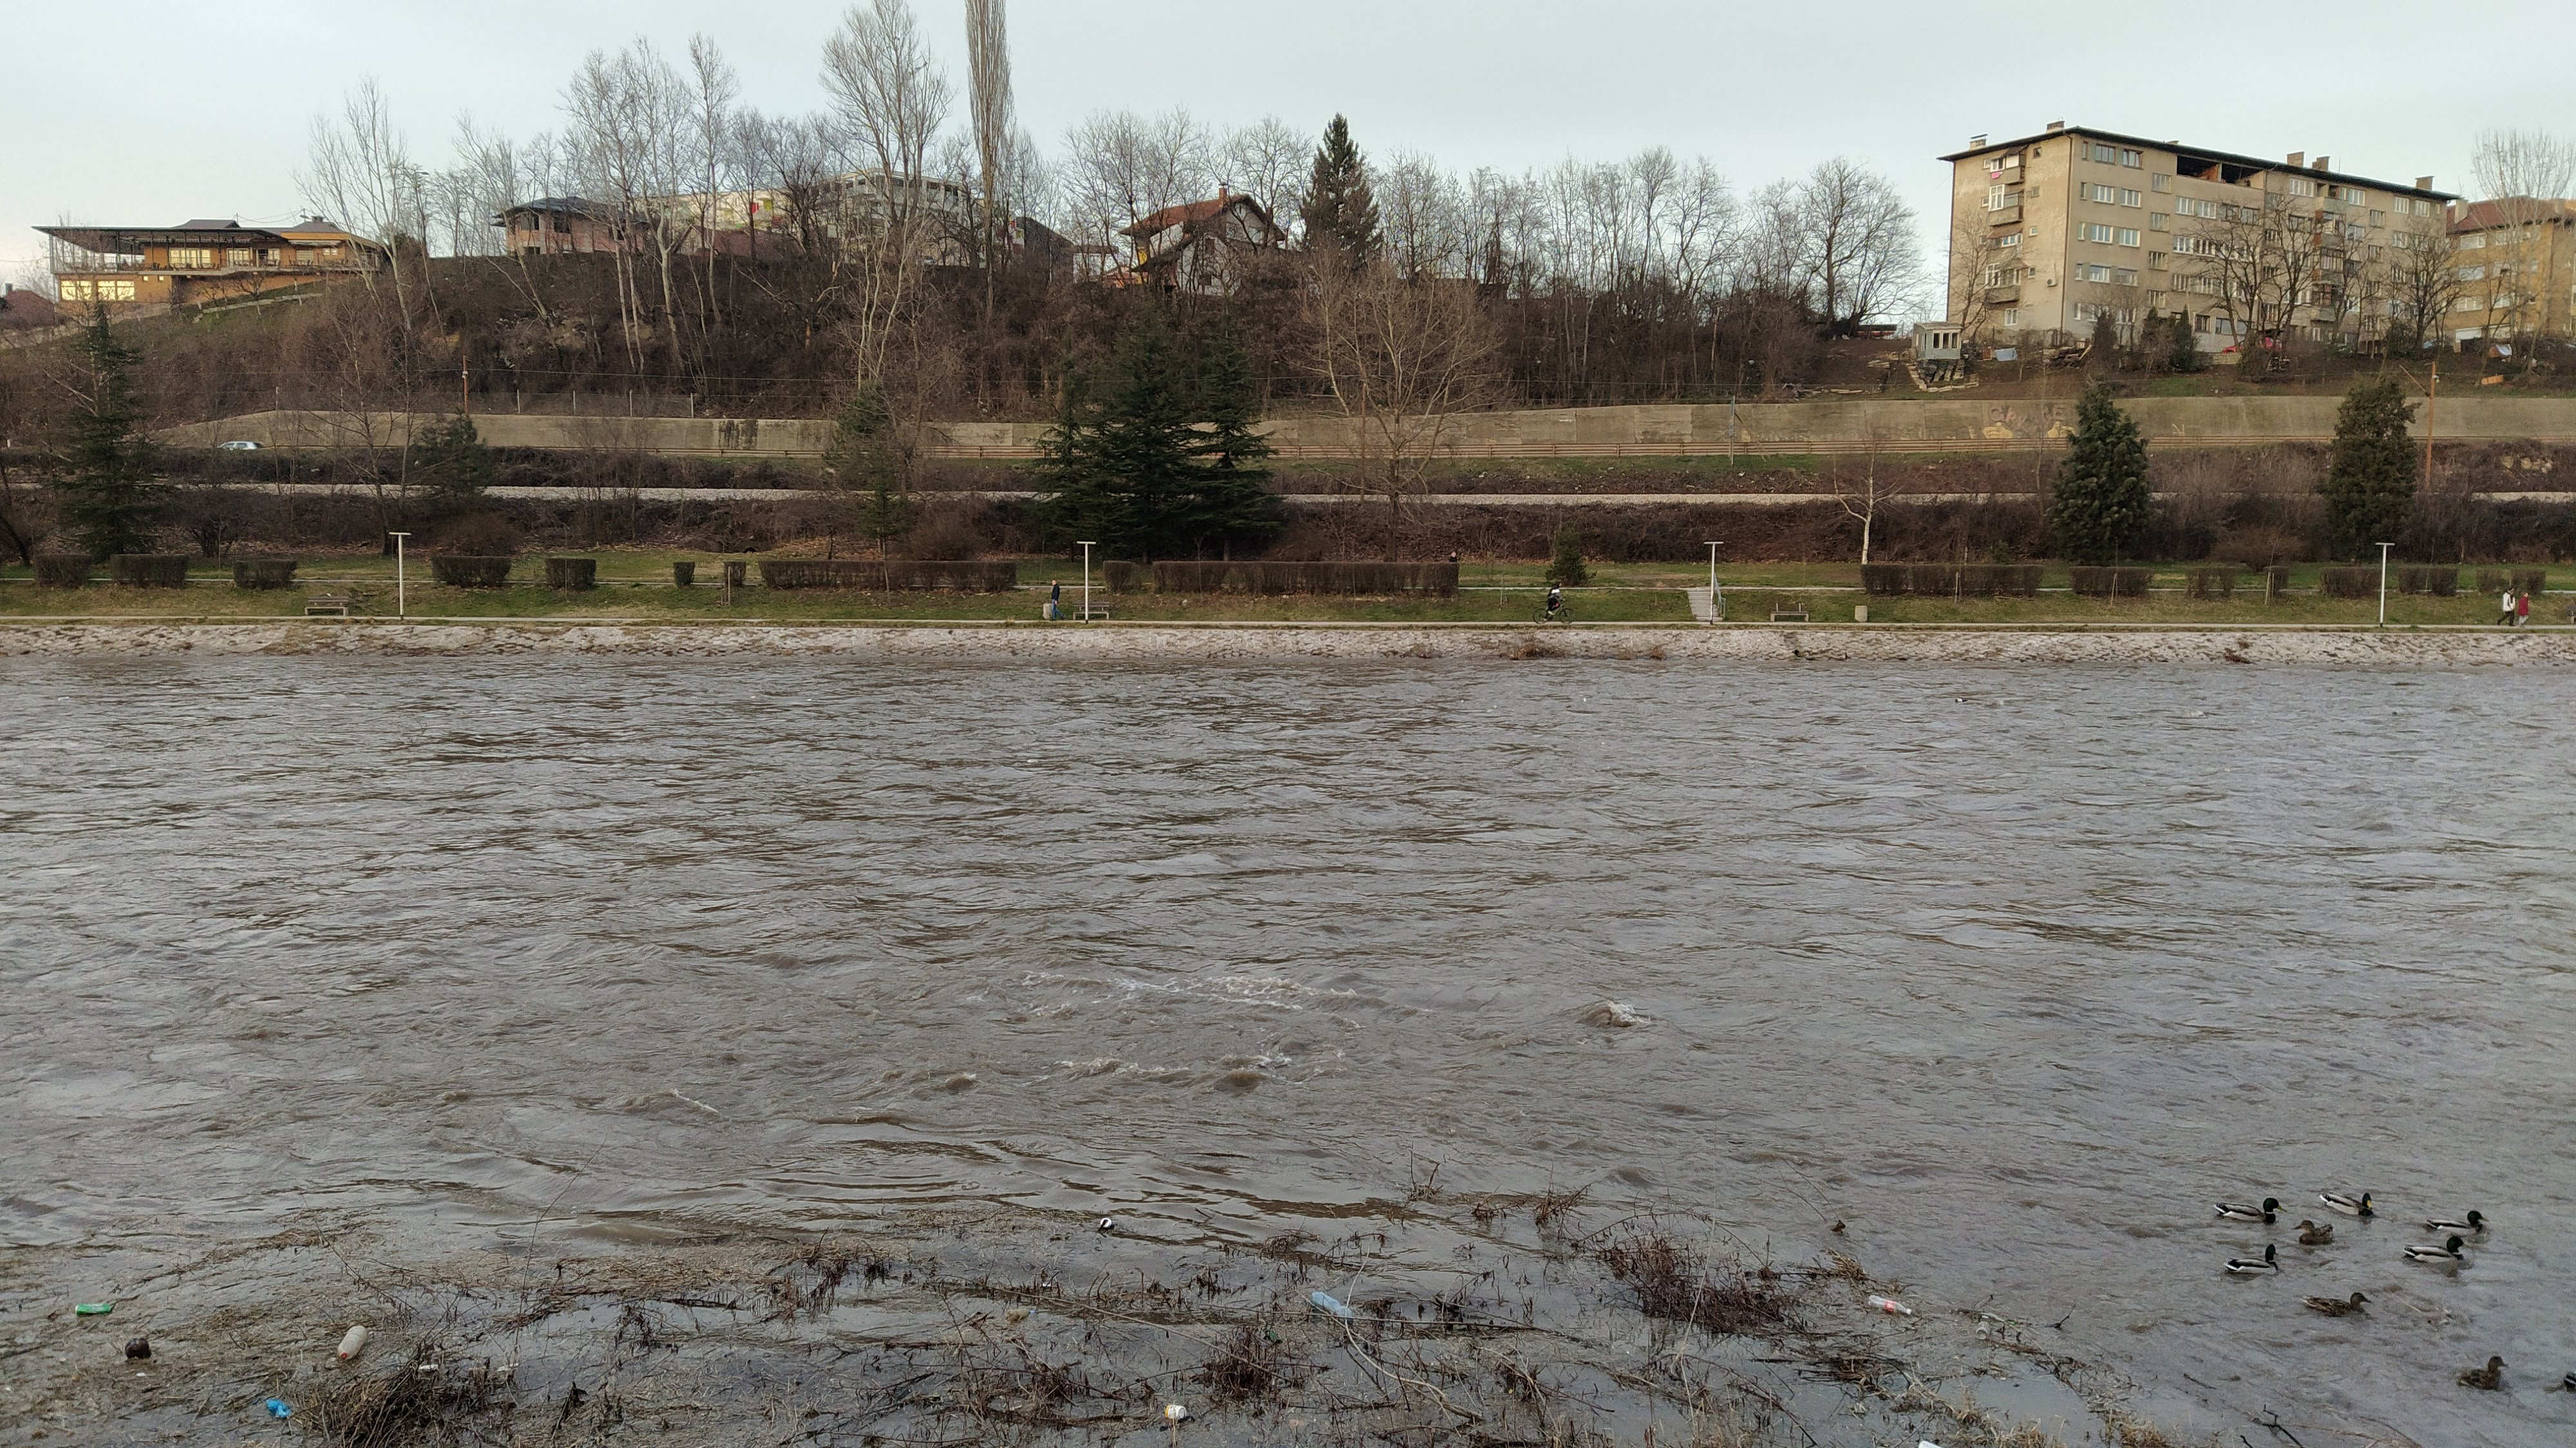Plastic Bottle: (1311, 1290, 1353, 1322), (336, 1324, 366, 1359), (1868, 1294, 1911, 1313), (124, 1338, 150, 1359), (265, 1398, 290, 1418), (74, 1303, 111, 1315), (1164, 1404, 1185, 1418), (1007, 1308, 1030, 1319), (1976, 1321, 1989, 1340), (1263, 1328, 1279, 1342), (1100, 1218, 1116, 1228), (1918, 1441, 1941, 1448), (1955, 697, 1966, 703), (57, 696, 69, 699)
